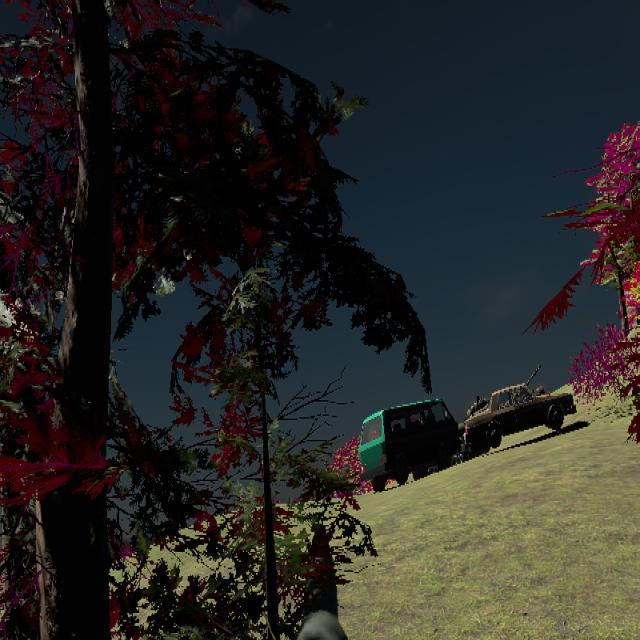car: (463, 365, 577, 452), (359, 398, 462, 491)
